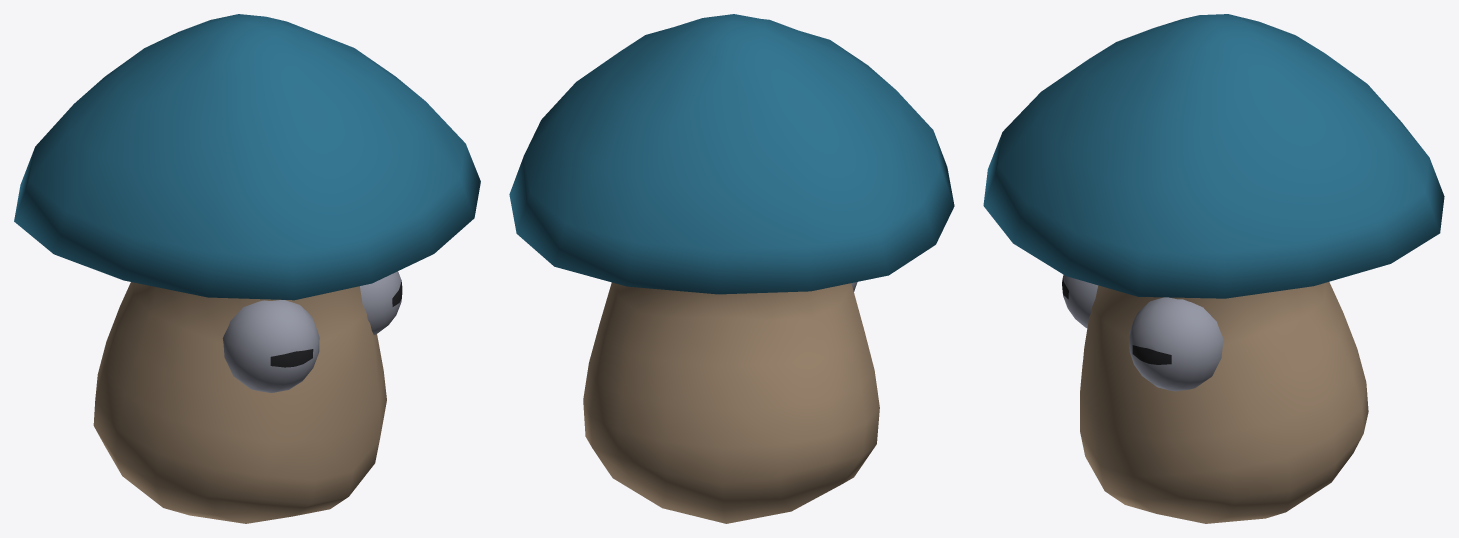
File: Mushnub_Blob.001.fbx
3 views of the same model, side by side, from view 1: azimuth 30°, elevation 25°; view 2: azimuth 150°, elevation 25°; view 3: azimuth 270°, elevation 25° (orthographic).
Parts seen in each view (by area): view 1: Mushnub_Blob.001; view 2: Mushnub_Blob.001; view 3: Mushnub_Blob.001.
Boxes of the visible parts, left/top/right/bottom form: Mushnub_Blob.001: left=14, top=14, right=480, bottom=523; Mushnub_Blob.001: left=509, top=14, right=954, bottom=523; Mushnub_Blob.001: left=983, top=14, right=1444, bottom=523.
Bounding box in the file's own units: 175 × 204 × 175.
